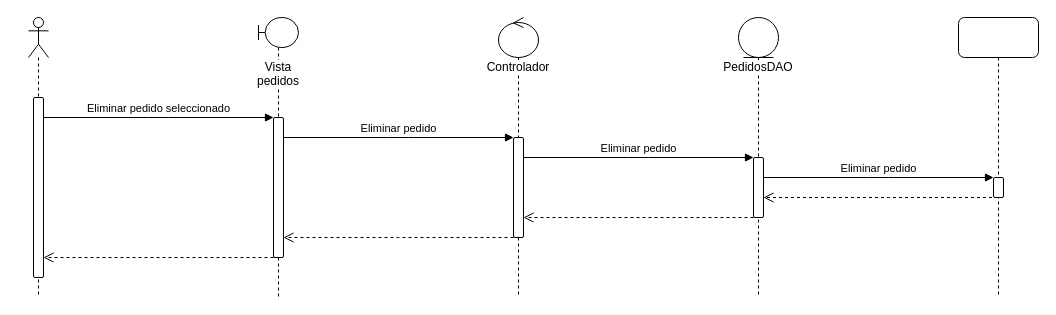
Image size: 1056x315. Some labels were removed from this diagram. Each missing label, with the box of its shape:
DB: (958, 16, 1038, 298)
Jugador: (28, 16, 48, 298)
